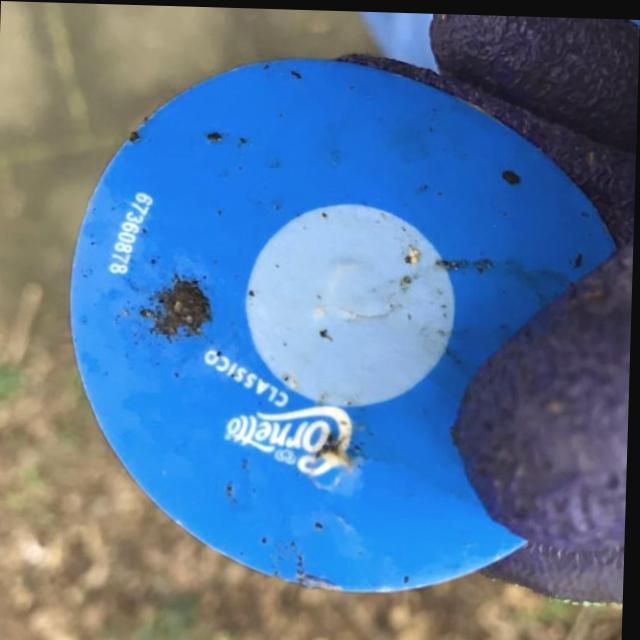Paper: (61, 50, 627, 597)
